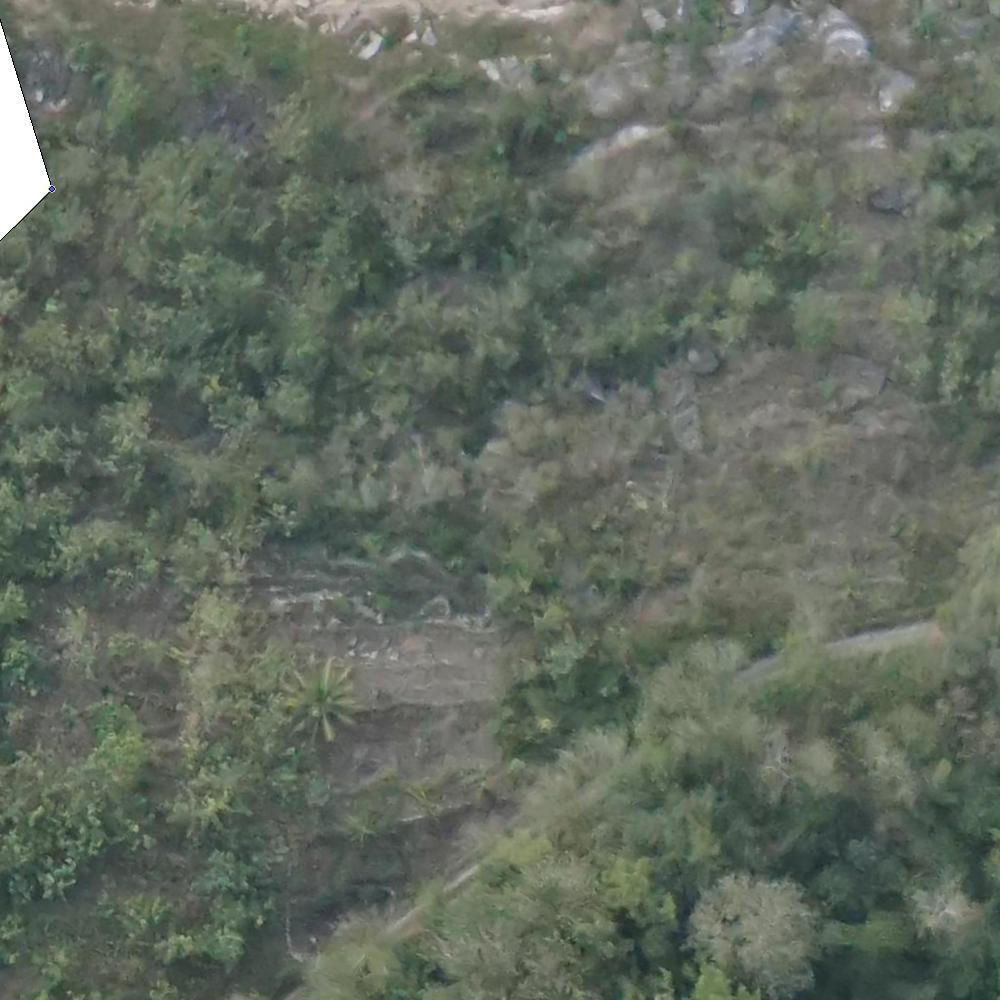tree: (696, 877, 813, 993), (279, 667, 364, 737), (193, 591, 260, 657), (912, 881, 973, 946), (54, 518, 112, 577), (52, 138, 106, 200), (941, 125, 997, 181), (816, 864, 869, 923), (253, 116, 311, 165), (100, 400, 151, 455), (393, 283, 446, 334), (180, 777, 231, 830), (53, 199, 104, 251), (274, 175, 324, 226), (28, 317, 75, 365), (5, 638, 48, 687), (729, 268, 777, 311), (101, 729, 141, 773), (268, 385, 308, 428), (520, 104, 562, 144), (606, 860, 648, 899)
